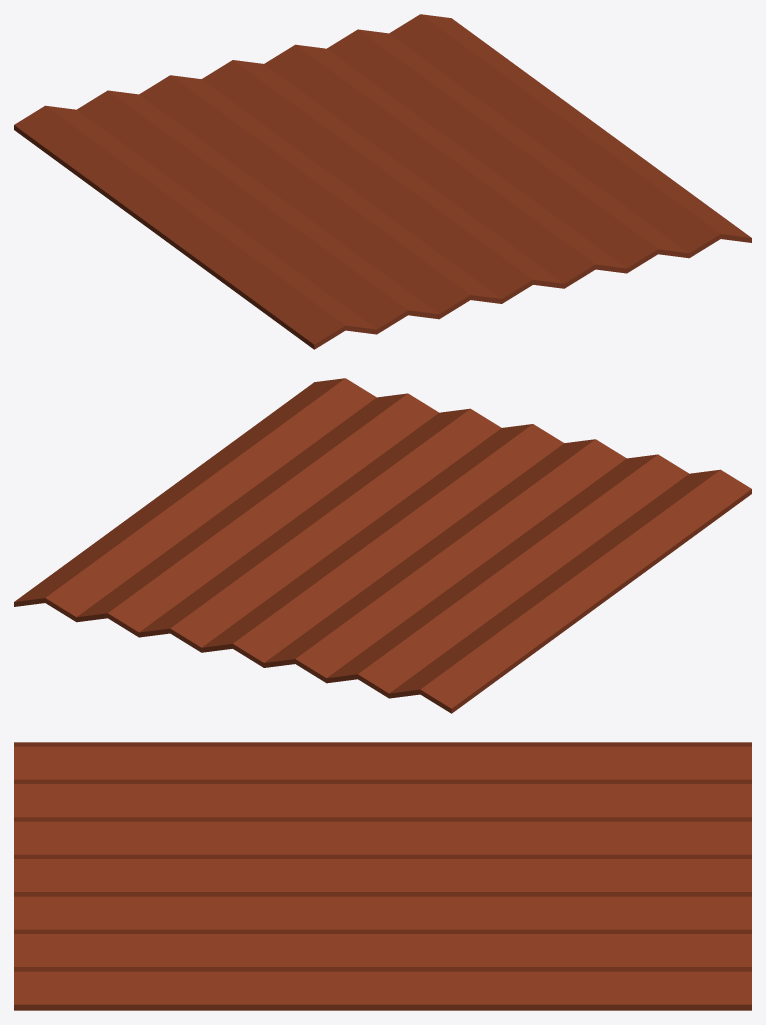
The model's file is MetalTile_02.fbx.
3 views of the same model, one above another, from view 1: azimuth 30°, elevation 25°; view 2: azimuth 150°, elevation 25°; view 3: azimuth 270°, elevation 25° (orthographic). The views are drawn at different scales.
Visible parts, largest first — view 1: MetalTile_02; view 2: MetalTile_02; view 3: MetalTile_02.
Part boxes in pixels (<box>): MetalTile_02: <box>14,14,751,349</box>; MetalTile_02: <box>14,378,751,713</box>; MetalTile_02: <box>14,742,751,1010</box>.
Size of the model in its own units: 183 by 6.64 by 217.
